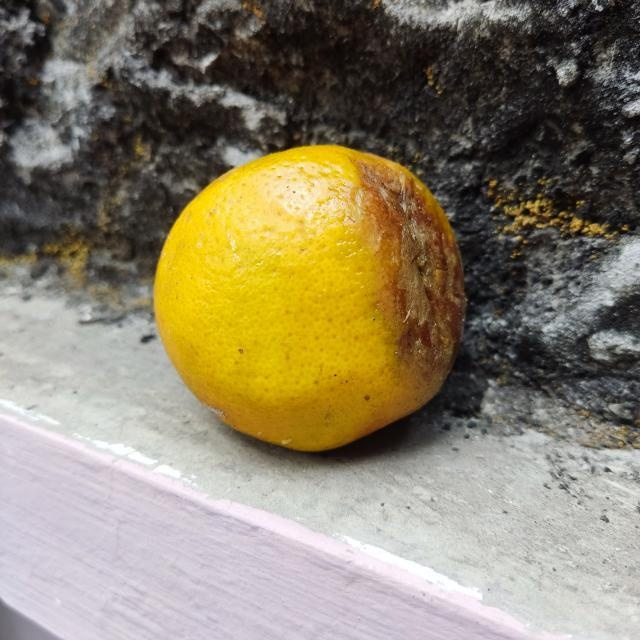agrume: (152, 140, 464, 452)
